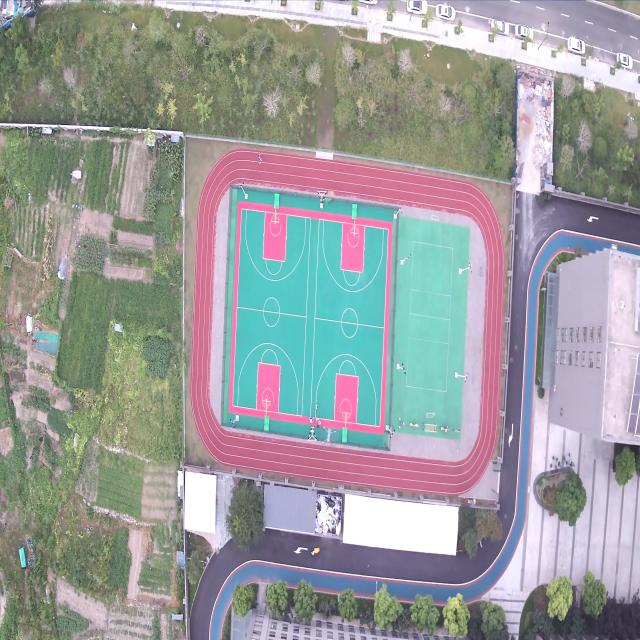UAV: (322, 426, 336, 446)
